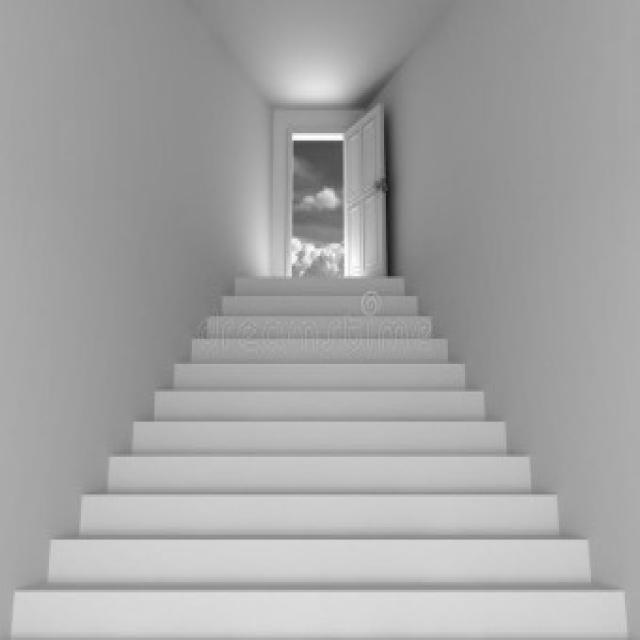stair: (12, 277, 624, 637)
